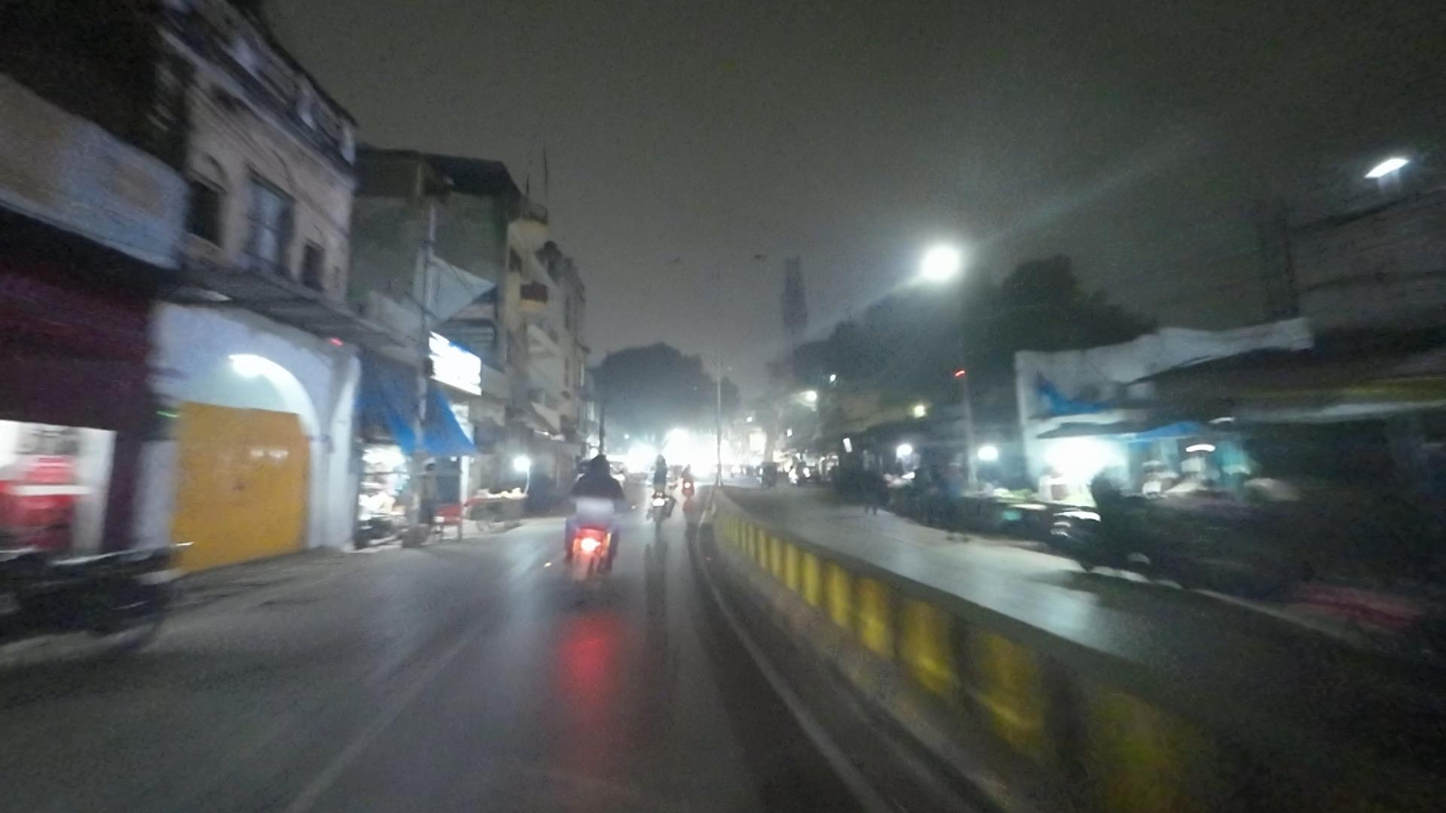streetlight: (722, 251, 770, 266), (668, 255, 708, 270)
